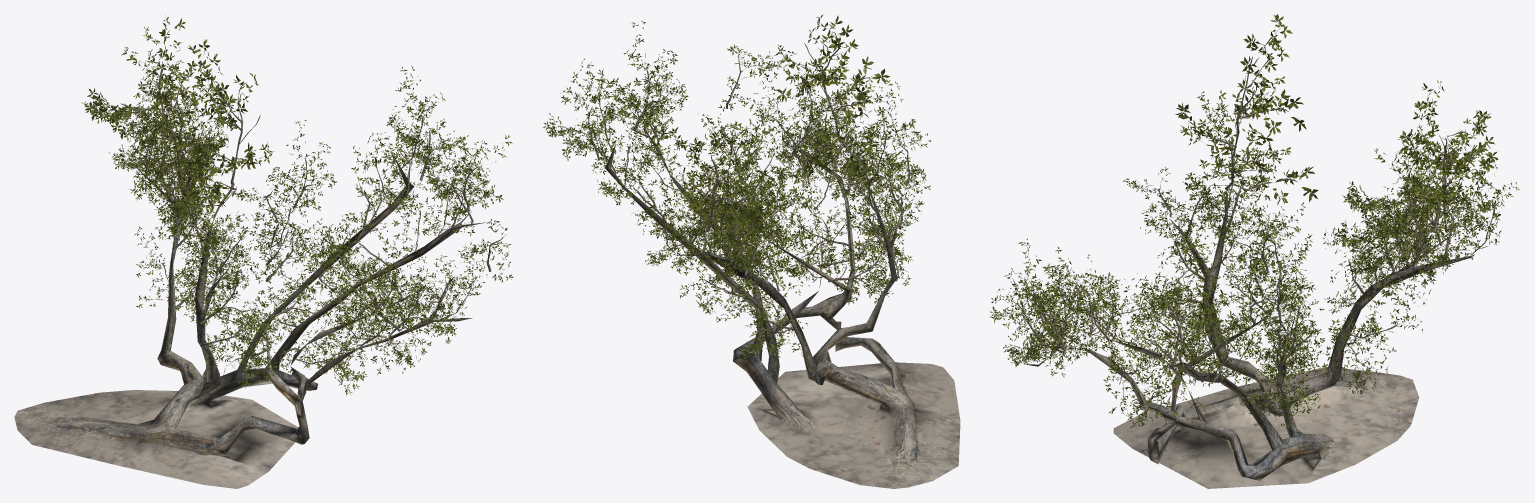
The model's file is island_tree_03.glb.
3 views of the same model, side by side, from view 1: azimuth 30°, elevation 25°; view 2: azimuth 150°, elevation 25°; view 3: azimuth 270°, elevation 25° (orthographic). The views are drawn at different scales.
Parts seen in each view (by area): view 1: island_tree_03_LOD0; view 2: island_tree_03_LOD0; view 3: island_tree_03_LOD0.
Boxes of the visible parts, x1,y1,x2,y2 form: island_tree_03_LOD0: (14, 17, 513, 488); island_tree_03_LOD0: (543, 14, 960, 488); island_tree_03_LOD0: (990, 14, 1519, 488).
Bounding box in the file's own units: 2.96 × 2.61 × 2.91.
Materials: 3 (3 with a texture image).
